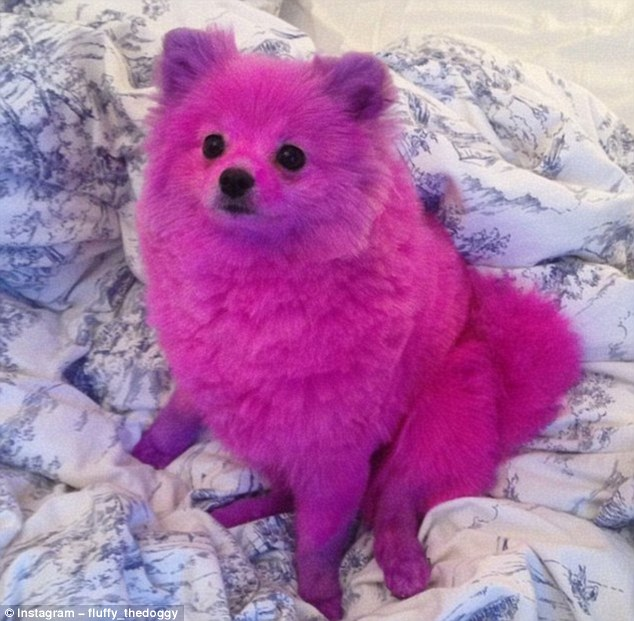pomeranian: (110, 19, 587, 612)
